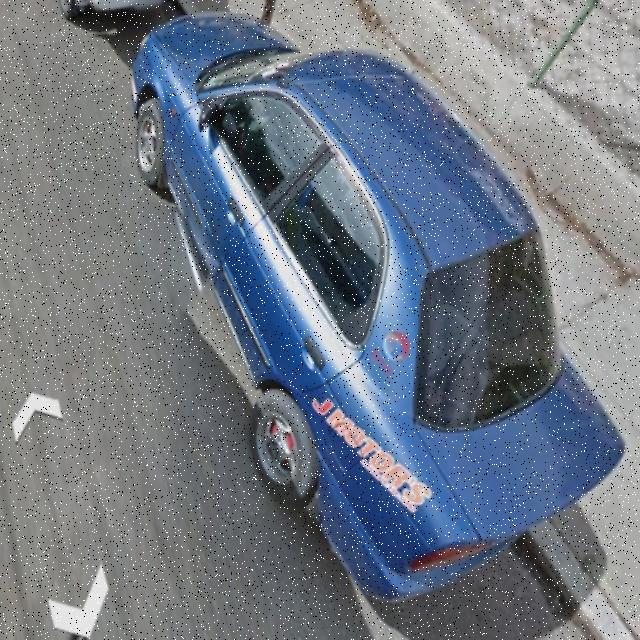cars: (128, 0, 625, 601)
